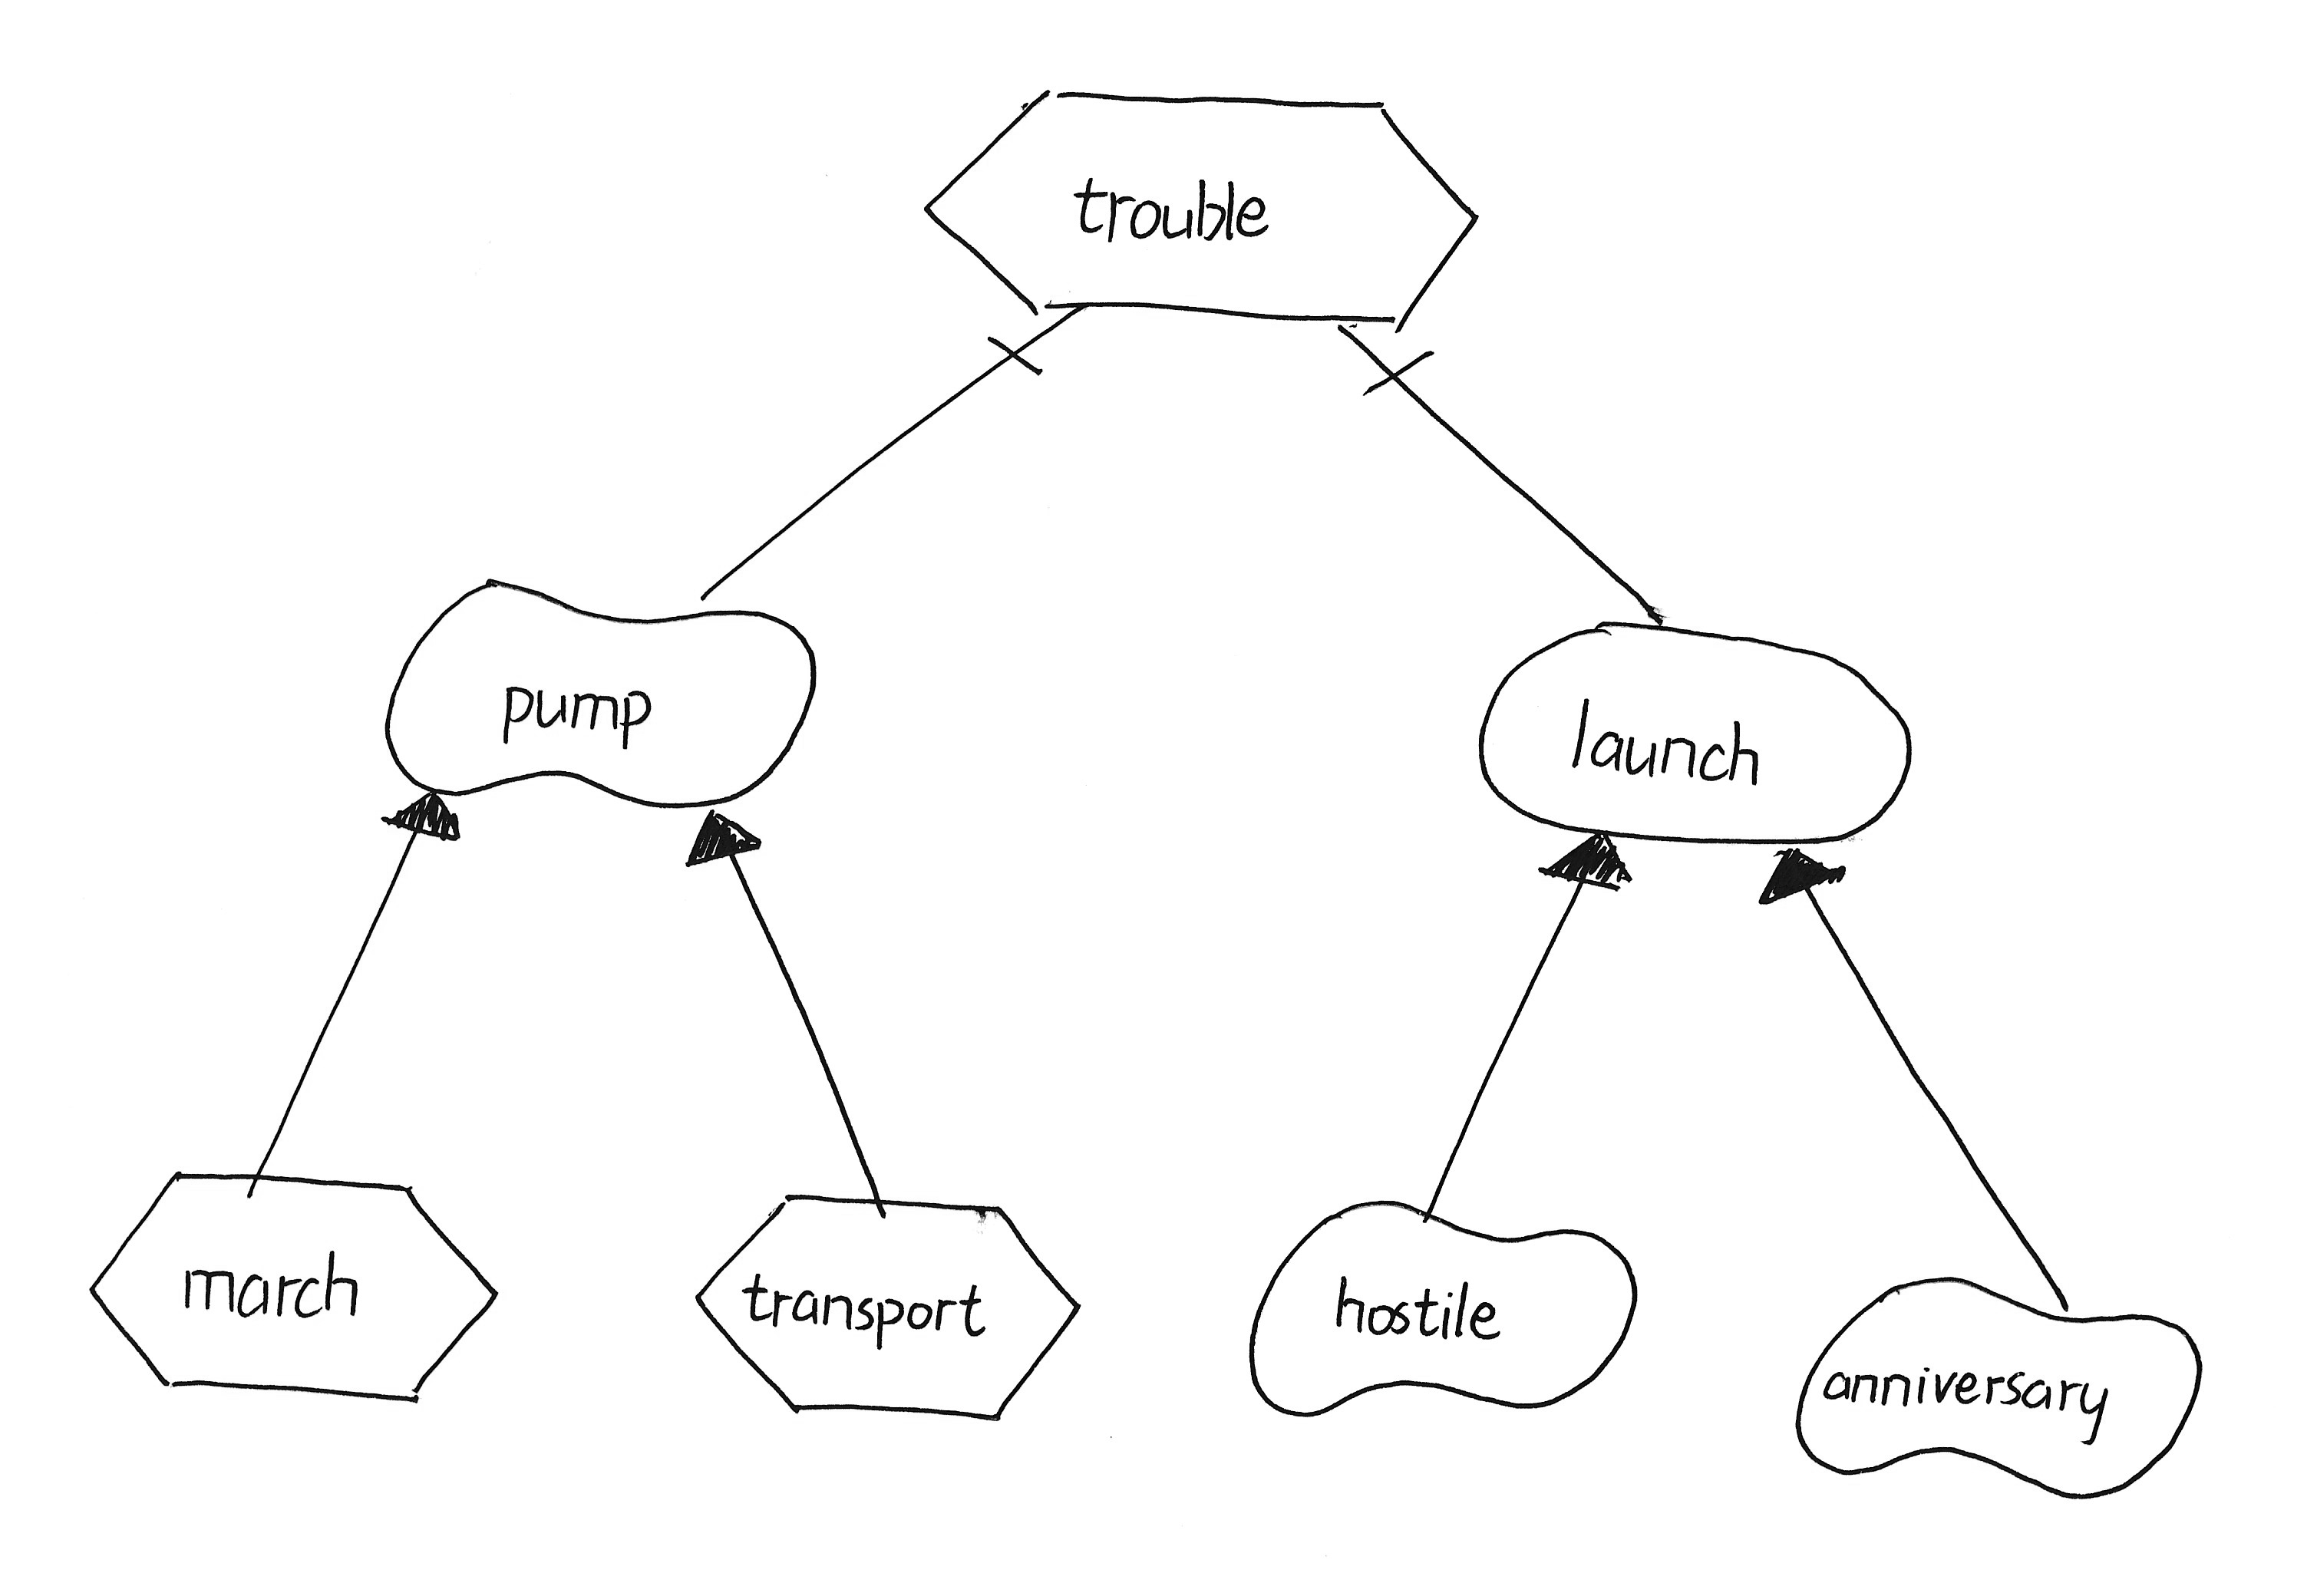and: (967, 304, 1065, 396), (1349, 336, 1458, 414)
goal: (1453, 600, 1930, 862)
or: (1532, 822, 1651, 917), (1745, 839, 1859, 926), (667, 801, 776, 880), (366, 780, 475, 859)
quality: (363, 561, 838, 822), (1776, 1256, 2217, 1517), (1225, 1186, 1664, 1436)
task: (898, 56, 1504, 348), (72, 1149, 518, 1432), (673, 1175, 1102, 1445)
